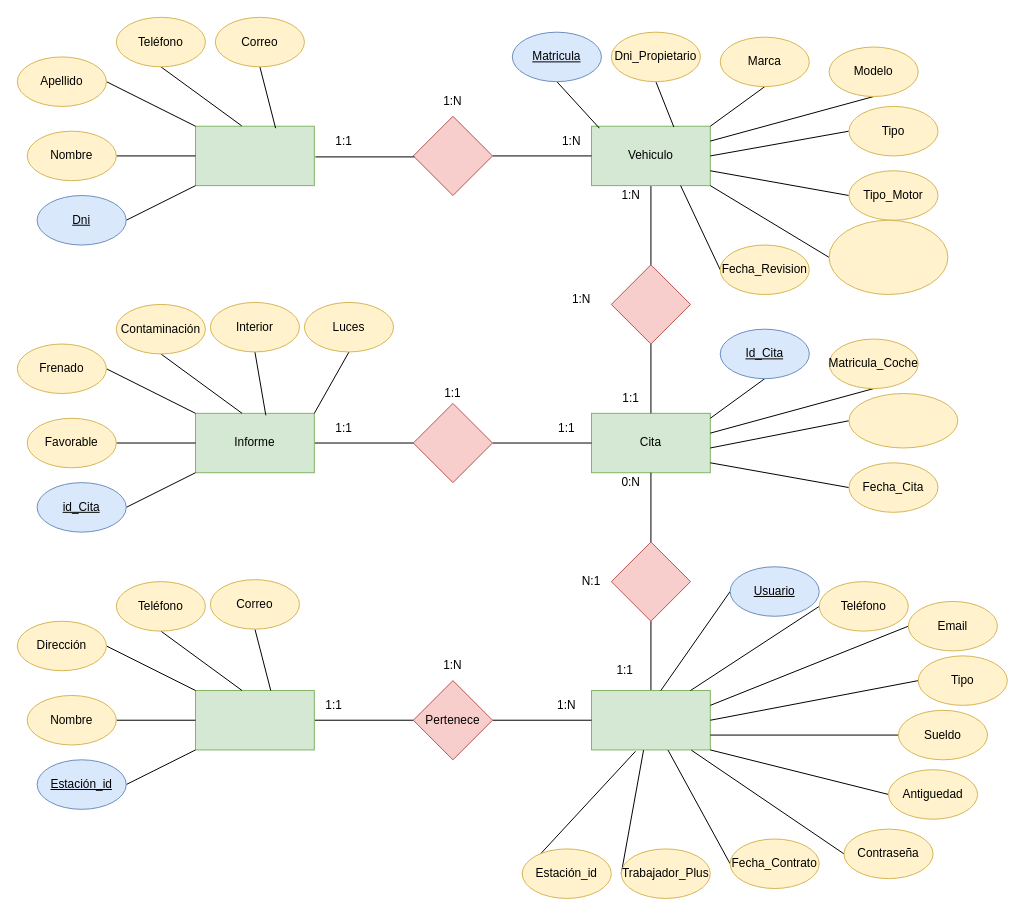
This 1025x916 diagram has some shape labels left out. Each missing label, with the centre of its shape:
"Cliente" goes at point 254,155.
"Estación" goes at point 254,720.
"Fecha_Matriculación" goes at point 888,257.
"Genera" goes at point 452,442.
"Posee" goes at point 452,155.
"Realiza" goes at point 650,581.
"Tiene" goes at point 650,304.
"Trabajador" goes at point 650,720.
"Trabajador_Usuario" goes at point 903,420.
